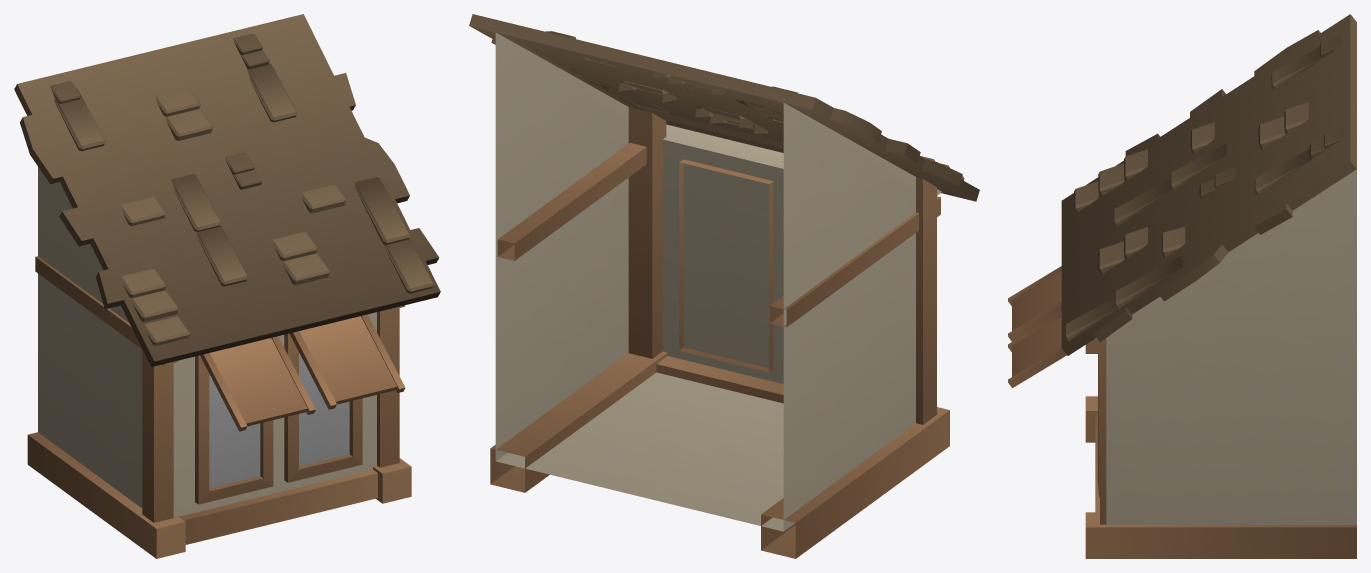
The model's file is ZLP_Build_A_22.FBX.
The picture shows the model from 3 angles, left to right: view 1: azimuth 30°, elevation 25°; view 2: azimuth 150°, elevation 25°; view 3: azimuth 270°, elevation 25°; orthographic projection. The views are drawn at different scales.
Visible parts, largest first — view 1: ZLP_Build_A_22; view 2: ZLP_Build_A_22; view 3: ZLP_Build_A_22.
Part boxes in pixels (x1,y1,x2,y2): ZLP_Build_A_22: (14,14,440,558); ZLP_Build_A_22: (469,14,979,558); ZLP_Build_A_22: (1008,14,1356,558).
Size of the model in its own units: 208 by 242 by 188.
